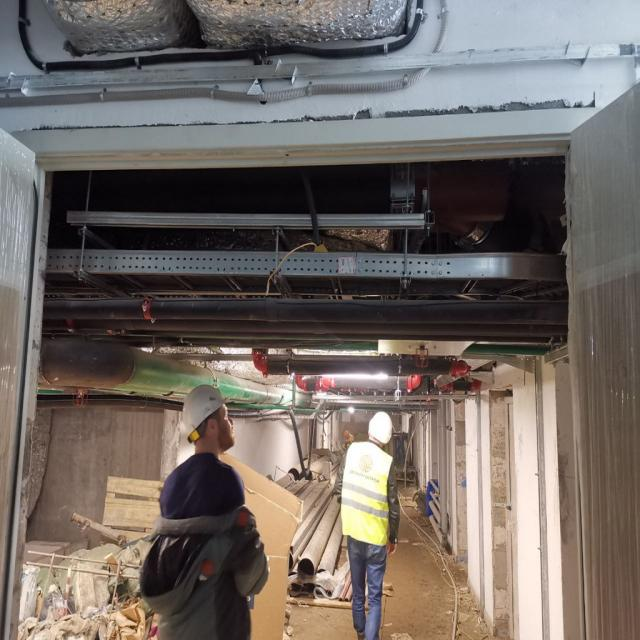Helmet: (179, 385, 238, 453), (367, 411, 397, 447), (344, 431, 350, 439)
